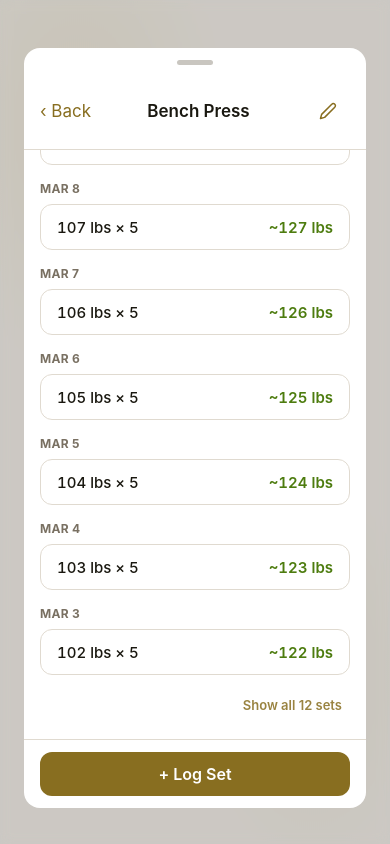
it: ExerciseDetailModal › show-all gate › shows the "show all" button only past SET_LIMIT (10) sets and expands on tap
The image size is (390, 844).
(page scrolled)
Click the button with class "wtShowAllBtn" at (292, 705), box [235, 683, 350, 727]
(page scrolled)
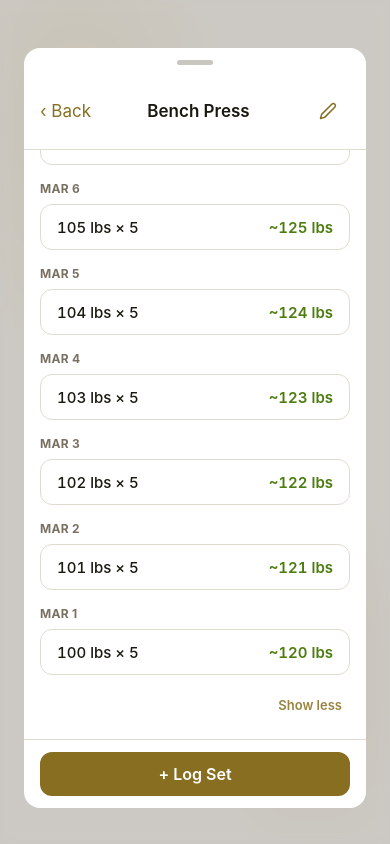
Expected: the button with class "wtShowAllBtn" reads "Show less", [270, 683, 350, 727]
